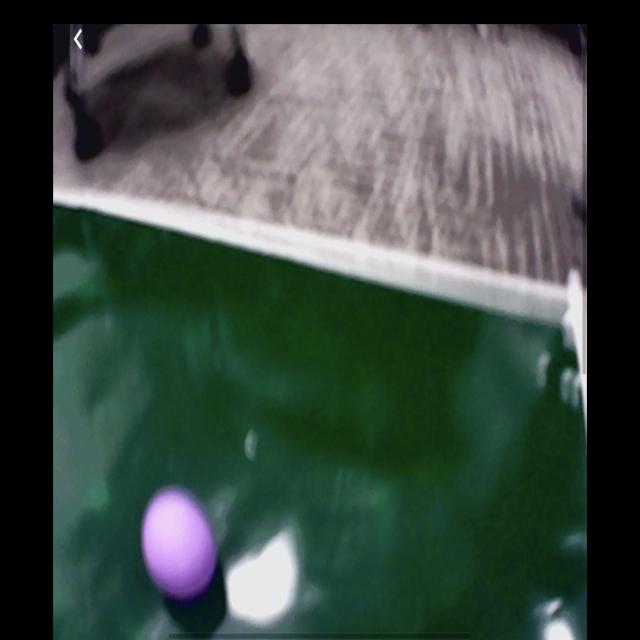ball: (140, 484, 219, 602)
